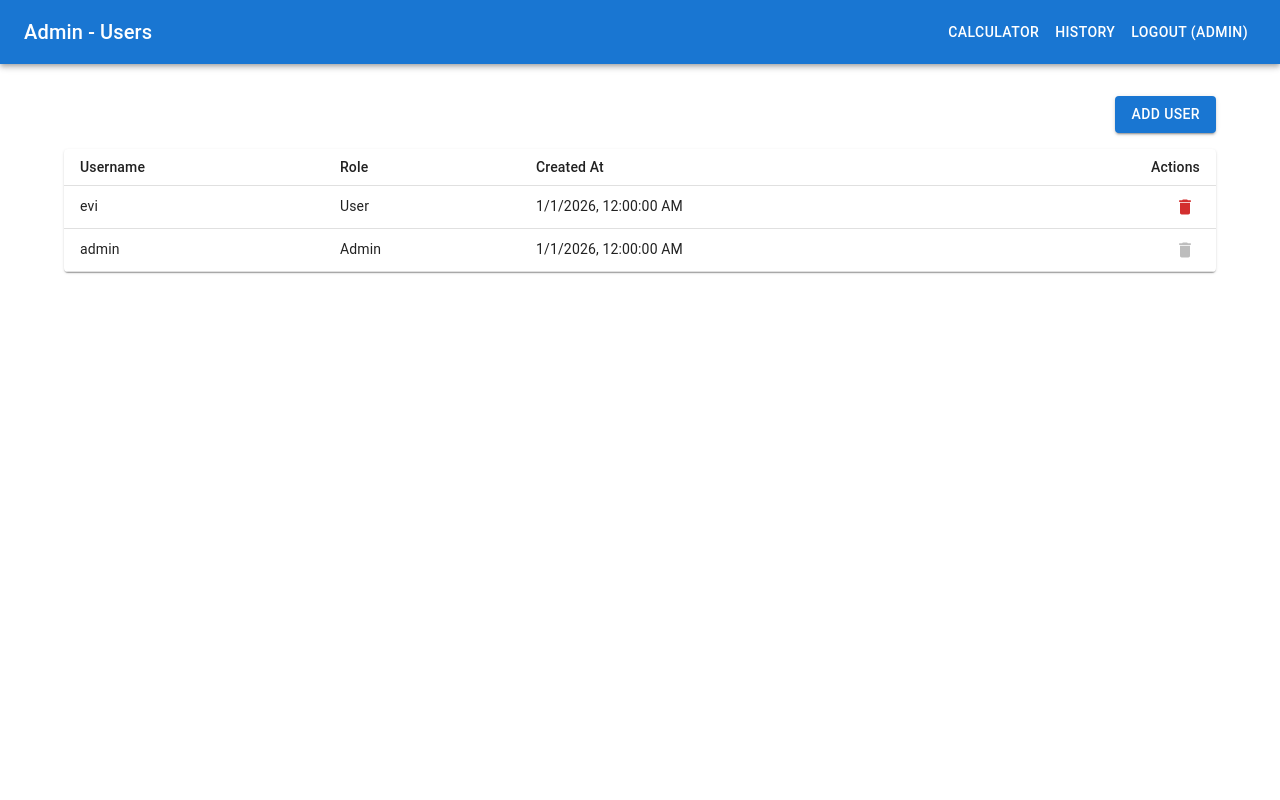
Test: AdminUsers › creates a user successfully and refreshes the list
The image size is (1280, 800).
expect the text "evi" is shown: met, box [64,185,324,228]
Click the button "Add user".
click(1166, 114)  # box [1116,96,1216,132]
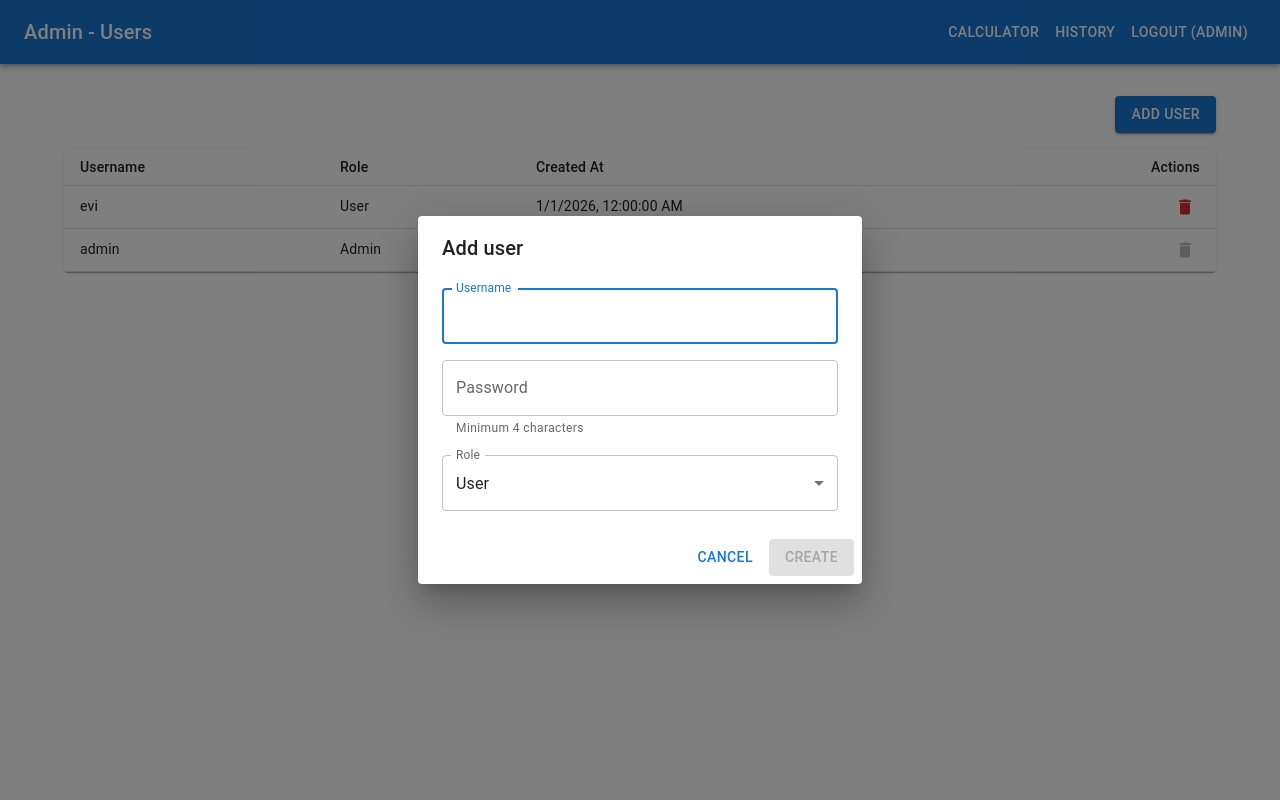
Type "temp" into the field labelled "Username".
click(640, 316); type("temp")  # box [442,288,838,344]
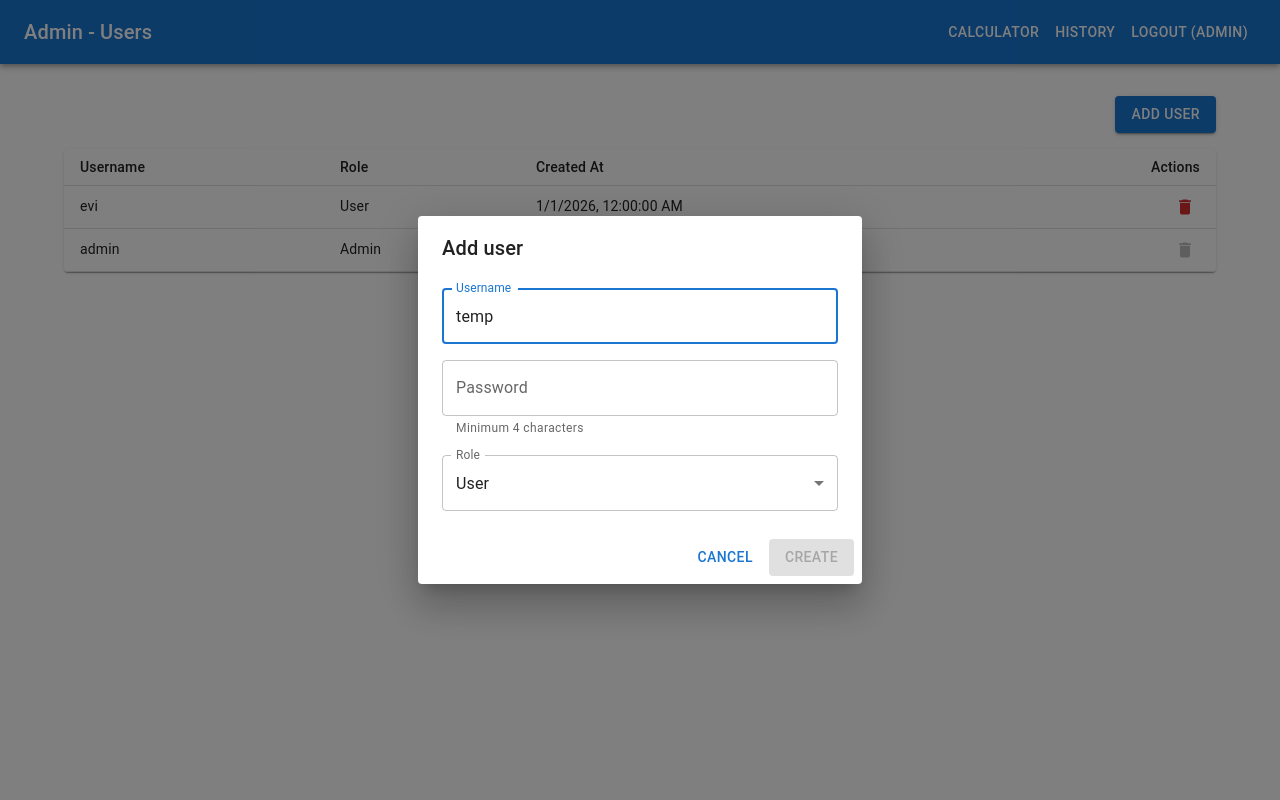
Type "temp123" into the password field labelled "Password".
click(640, 388); type("temp123")  # box [442,360,838,416]
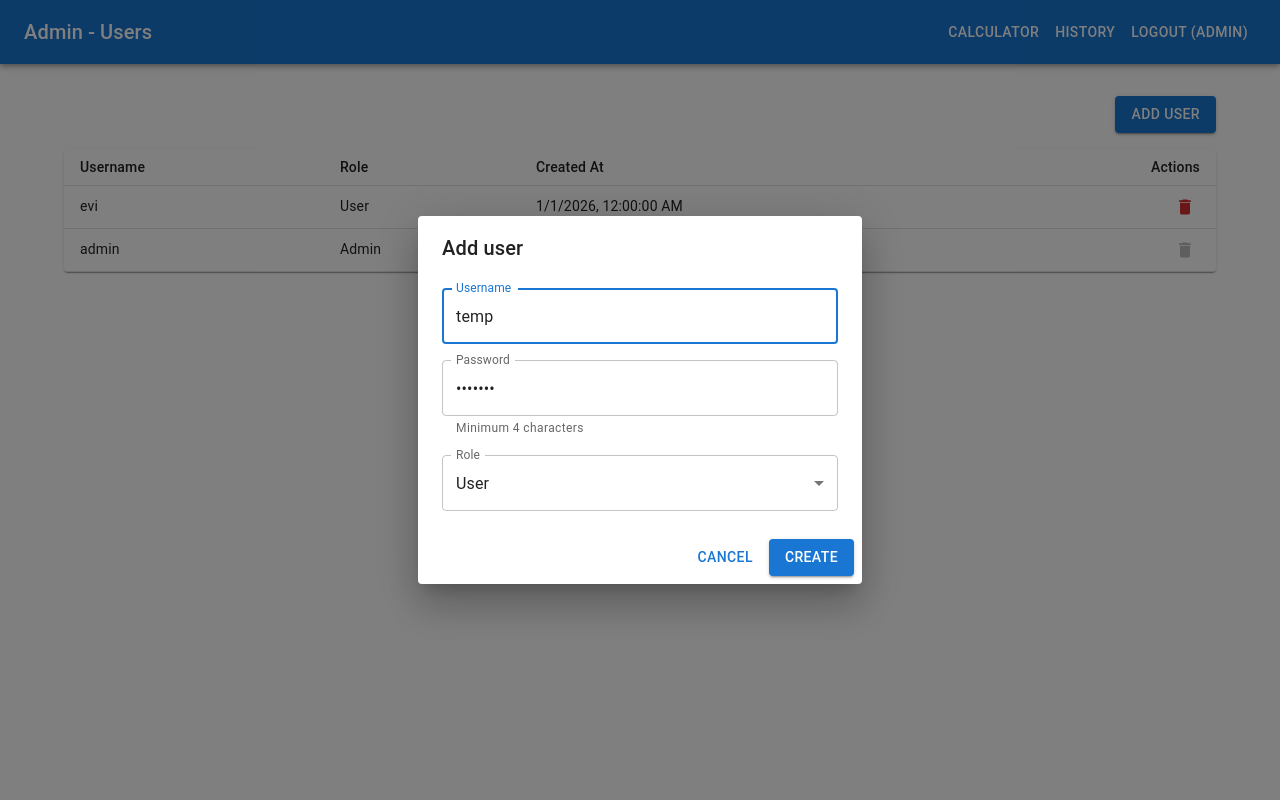
Click the button "Create".
click(811, 557)  # box [769,539,854,576]
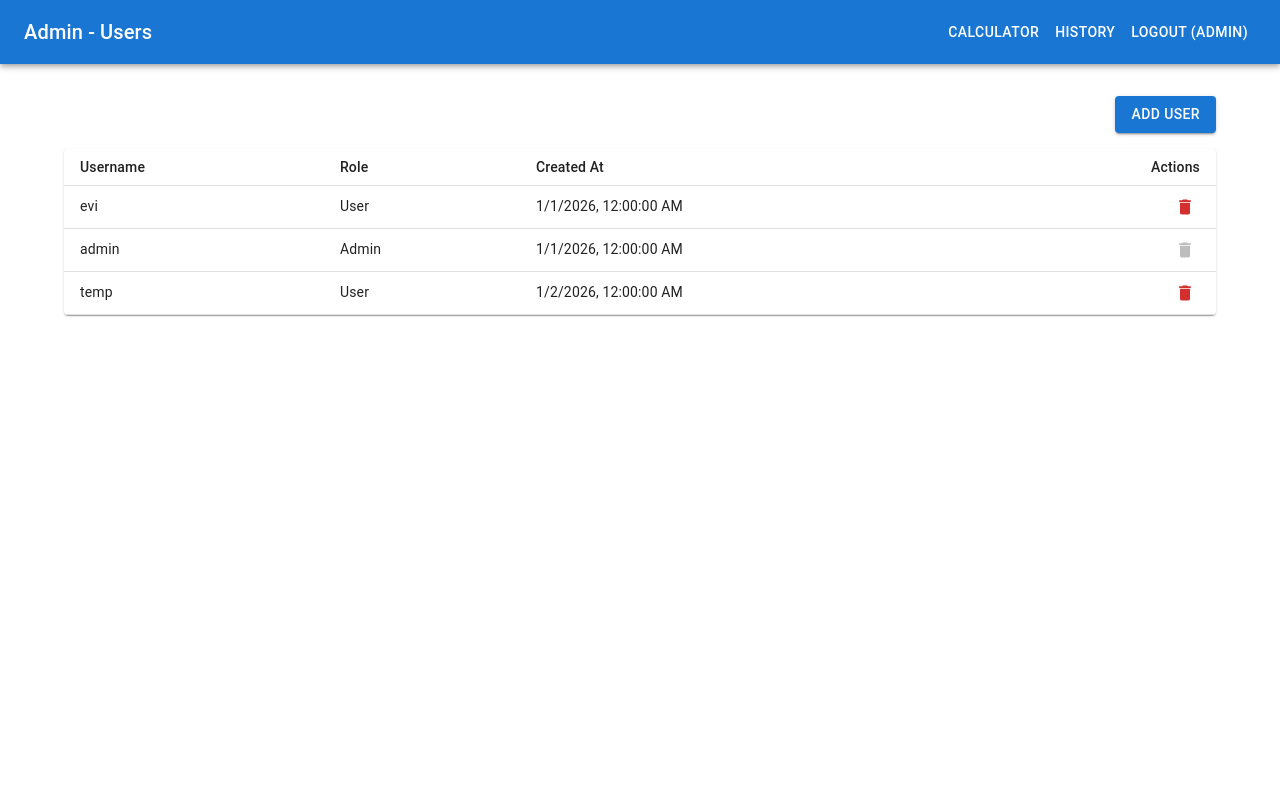
expect the text "temp" is shown: met, box [64,271,324,314]
expect the dialog is gone: met
